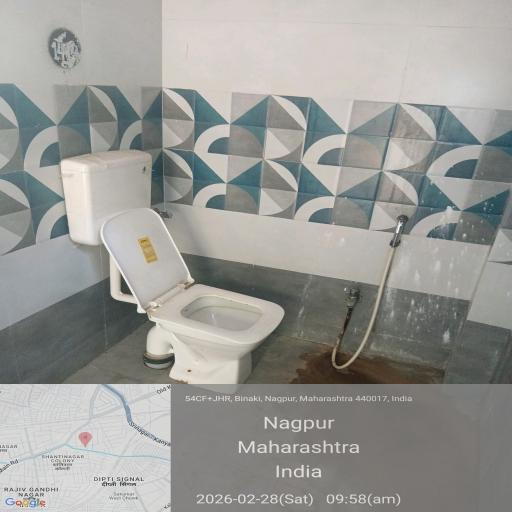clean_floor: (14, 20, 506, 210)
clean_western: (84, 180, 274, 398)
dirty_floor: (78, 340, 512, 511)
